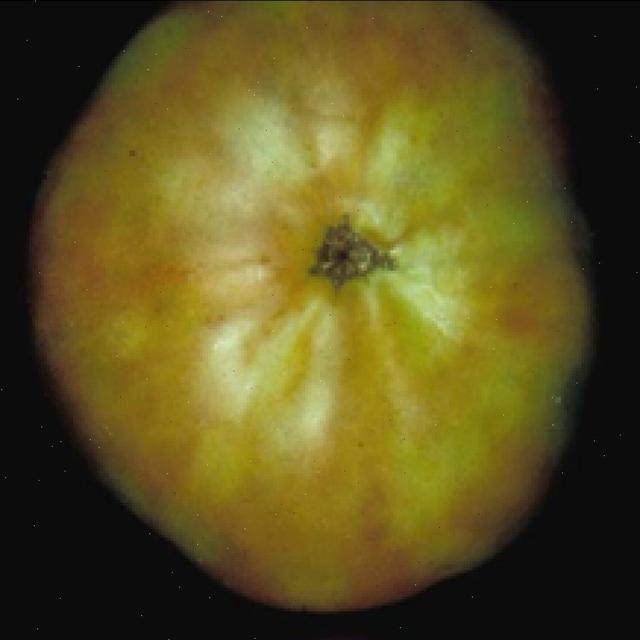Spotted wilt Virus Fruit: (20, 0, 393, 405)
